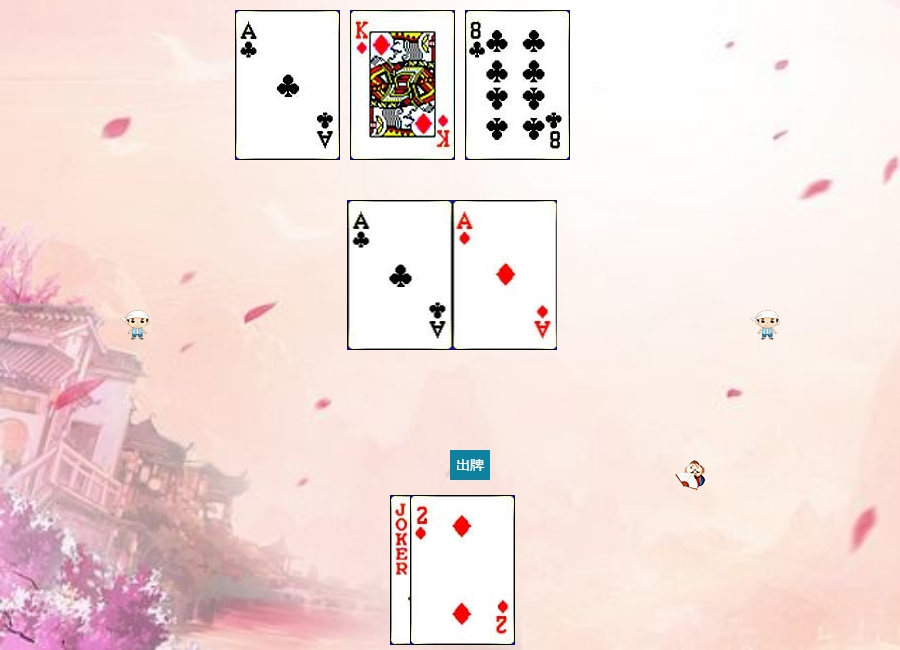13~1: (350, 10, 455, 160)
14~1: (453, 200, 558, 350)
14~2: (235, 10, 340, 160), (348, 200, 453, 350)
15~1: (410, 495, 515, 645)
18~4: (390, 495, 495, 645)
8~2: (465, 10, 570, 160)
